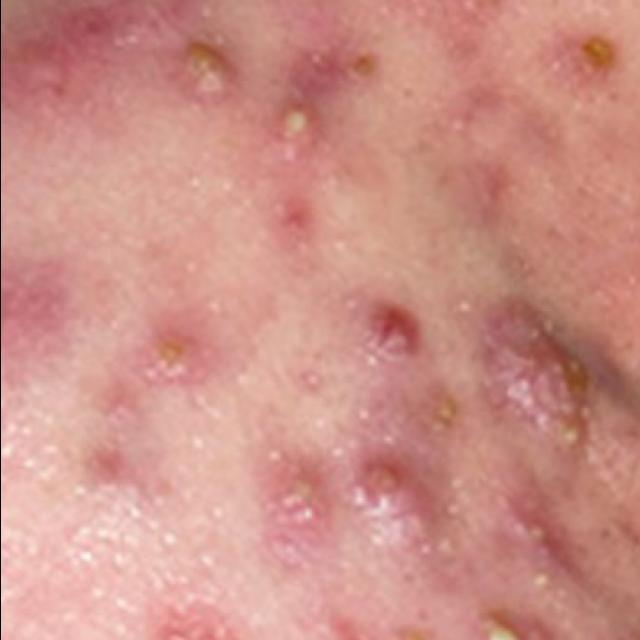acne: (466, 252, 640, 490), (240, 448, 463, 576), (0, 240, 87, 403), (300, 597, 574, 640), (494, 500, 614, 588), (541, 16, 640, 113), (346, 288, 441, 388), (130, 309, 220, 401), (68, 428, 152, 516), (166, 36, 250, 118), (248, 88, 330, 167), (244, 186, 320, 253), (134, 602, 248, 640)
